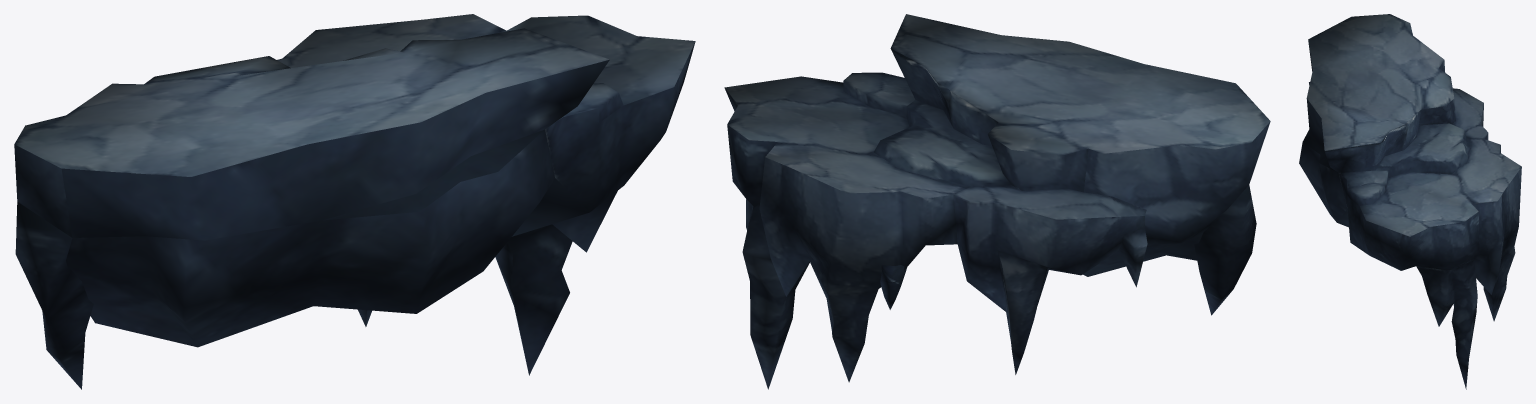
The model's file is Area_13_3.fbx.
3 renders of one model, left to right at view 1: azimuth 30°, elevation 25°; view 2: azimuth 150°, elevation 25°; view 3: azimuth 270°, elevation 25°, orthographic. The views are drawn at different scales.
Visible parts, largest first — view 1: Area_13_3; view 2: Area_13_3; view 3: Area_13_3.
Part boxes in pixels (x1,y1,x2,y2): Area_13_3: (14,14,695,389); Area_13_3: (724,14,1270,389); Area_13_3: (1299,14,1521,389).
Bounding box in the file's own units: 2745 × 1602 × 1437.
